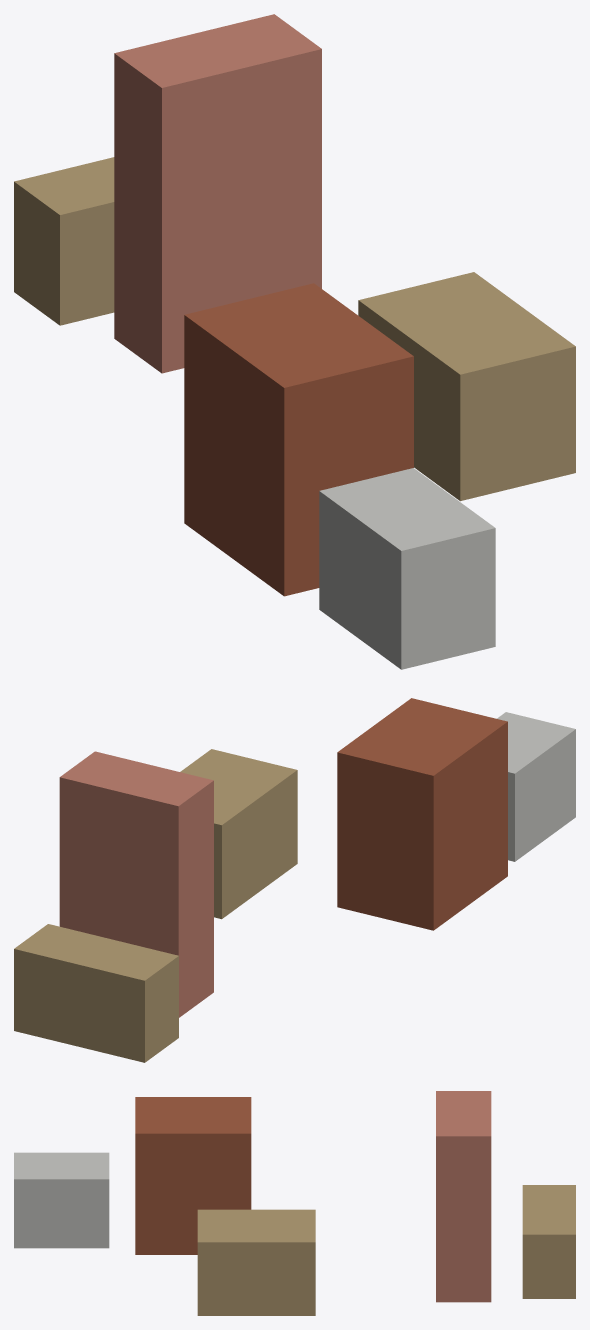
Rendered from synth-13-09.lod2.glb.
The picture shows the model from 3 angles, top to bottom: view 1: azimuth 30°, elevation 25°; view 2: azimuth 150°, elevation 25°; view 3: azimuth 270°, elevation 25°; orthographic projection. The views are drawn at different scales.
Parts seen in each view (by area): view 1: synth-13-09; view 2: synth-13-09; view 3: synth-13-09.
Boxes of the visible parts, <box> form: synth-13-09: <box>14,14,575,669</box>; synth-13-09: <box>14,698,575,1062</box>; synth-13-09: <box>14,1091,575,1315</box>.
Bounding box in the file's own units: 38.51 × 30.42 × 93.45.
